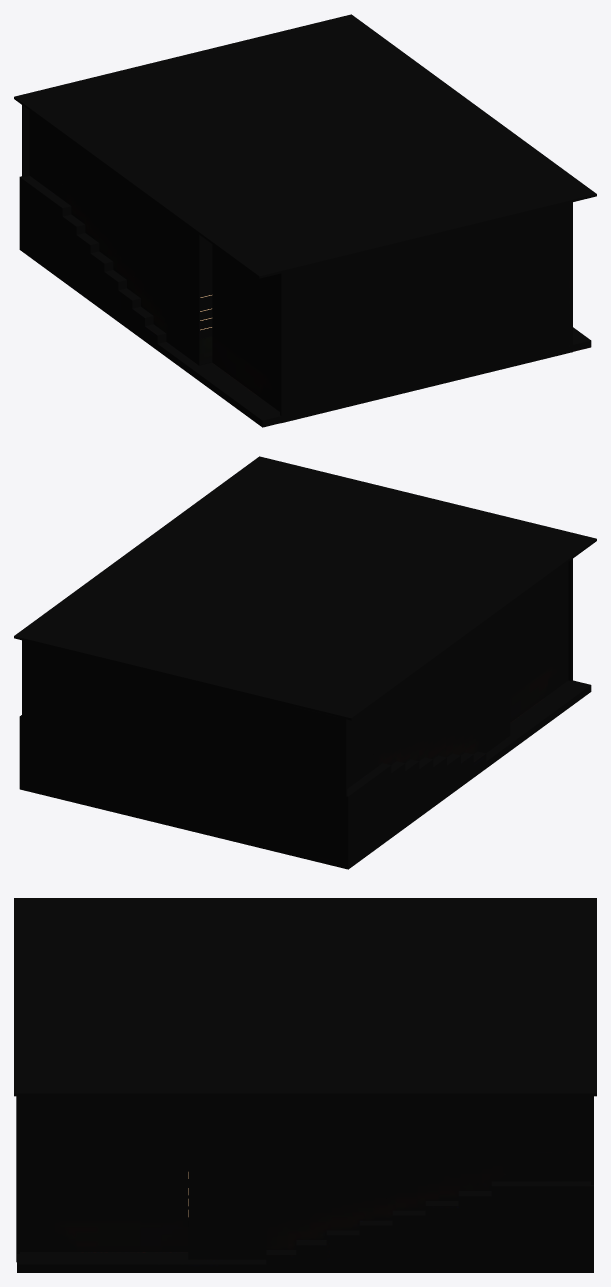
File: hall3.glb
3 views of the same model, one above another, from view 1: azimuth 30°, elevation 25°; view 2: azimuth 150°, elevation 25°; view 3: azimuth 270°, elevation 25° (orthographic). The views are drawn at different scales.
Parts seen in each view (by area): view 1: bake_room, bake_walls, bake_floor; view 2: bake_room, bake_floor, bake_walls; view 3: bake_room, bake_walls, bake_floor.
Part boxes in pixels (box(x1,y1,x2,y2)): bake_room: box(14, 14, 596, 423); bake_walls: box(29, 111, 279, 405); bake_floor: box(19, 175, 591, 427); bake_room: box(14, 456, 596, 867); bake_floor: box(19, 680, 591, 869); bake_walls: box(347, 562, 568, 788); bake_room: box(14, 898, 596, 1262); bake_walls: box(20, 1096, 590, 1259); bake_floor: box(17, 1181, 593, 1272).
Size of the model in its own units: 15.4 by 6.68 by 19.4.
Materials: 11 (3 with a texture image).
